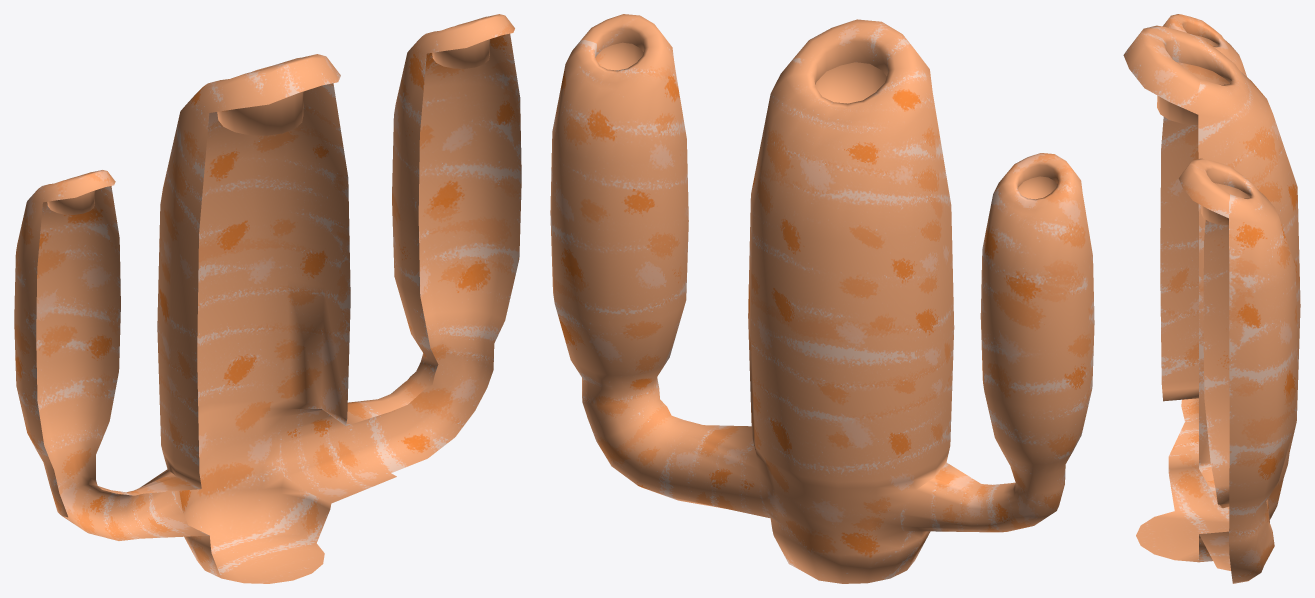
File: Koralli B Väri A.fbx
The picture shows the model from 3 angles, left to right: view 1: azimuth 30°, elevation 25°; view 2: azimuth 150°, elevation 25°; view 3: azimuth 270°, elevation 25°; orthographic projection. The views are drawn at different scales.
Visible parts, largest first — view 1: Koralli B; view 2: Koralli B; view 3: Koralli B.
Boxes of the visible parts, box(x1,y1,x2,y2) form: Koralli B: box(14, 14, 521, 583); Koralli B: box(550, 14, 1094, 583); Koralli B: box(1123, 14, 1300, 583).
Size of the model in its own units: 921 by 880 by 281.
1 material, 1 textured.
